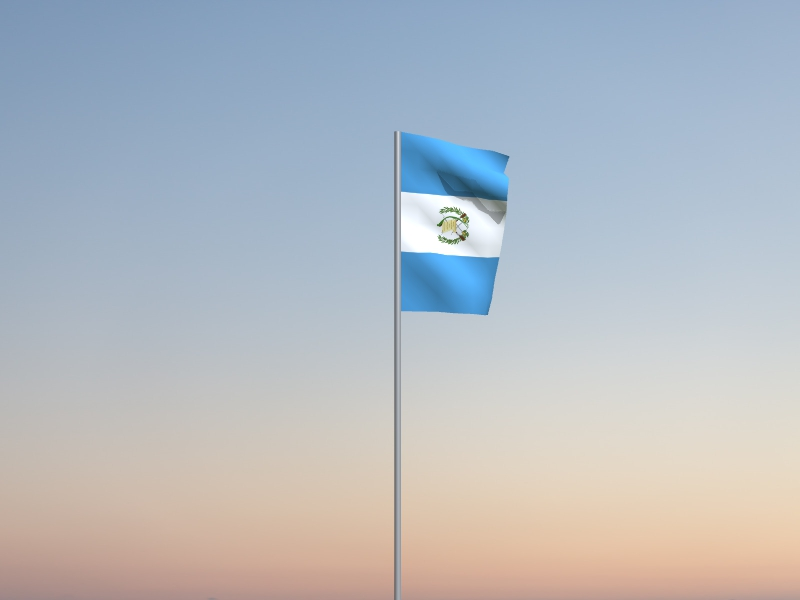gt: (401, 133, 511, 317)
